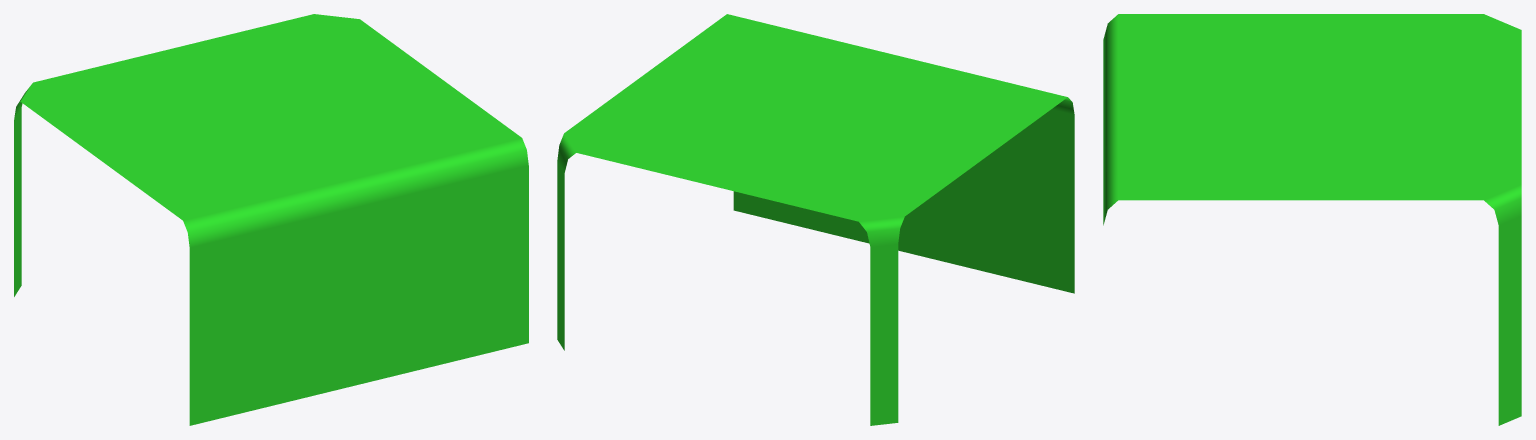
Rendered from ContainerLockedEnd.fbx.
The picture shows the model from 3 angles, left to right: view 1: azimuth 30°, elevation 25°; view 2: azimuth 150°, elevation 25°; view 3: azimuth 270°, elevation 25°; orthographic projection. The views are drawn at different scales.
Parts seen in each view (by area): view 1: ContainerLockedEnd; view 2: ContainerLockedEnd; view 3: ContainerLockedEnd.
Part boxes in pixels (x1,y1,x2,y2): ContainerLockedEnd: [14, 14, 528, 425]; ContainerLockedEnd: [557, 14, 1074, 425]; ContainerLockedEnd: [1103, 14, 1521, 425].
Bounding box in the file's own units: 50 × 28.23 × 47.41.
